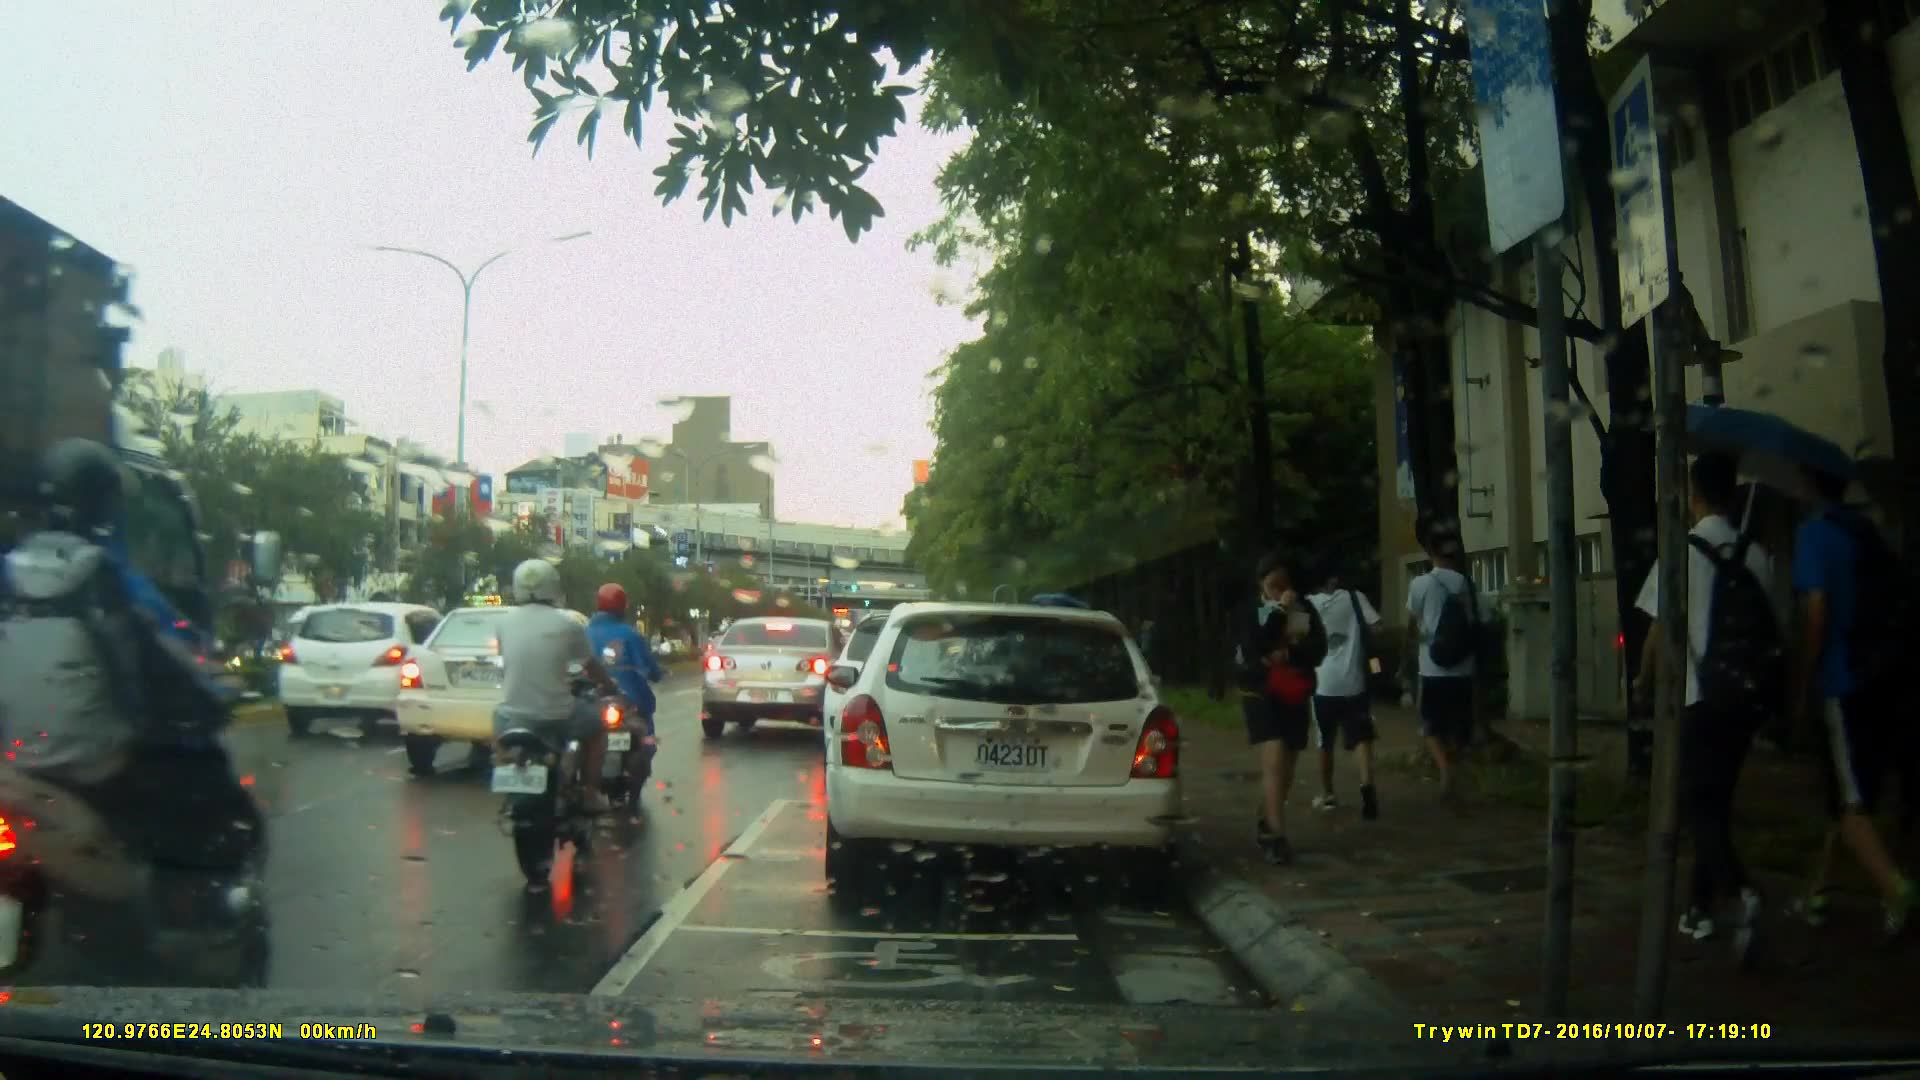pedestrian: (1741, 415, 1899, 947), (1620, 433, 1766, 954), (1391, 519, 1493, 823), (1233, 557, 1327, 863), (1293, 557, 1375, 823)
rider: (1, 440, 280, 1059), (490, 552, 614, 871), (578, 584, 675, 801)
vehicle: (820, 602, 1188, 898), (388, 603, 652, 781), (275, 600, 479, 738), (698, 614, 871, 742)
